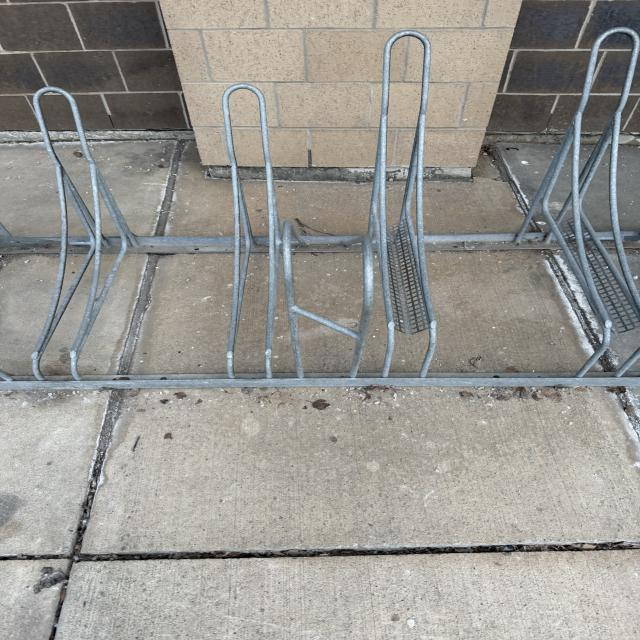Bicycle Rack: (0, 31, 640, 390)
